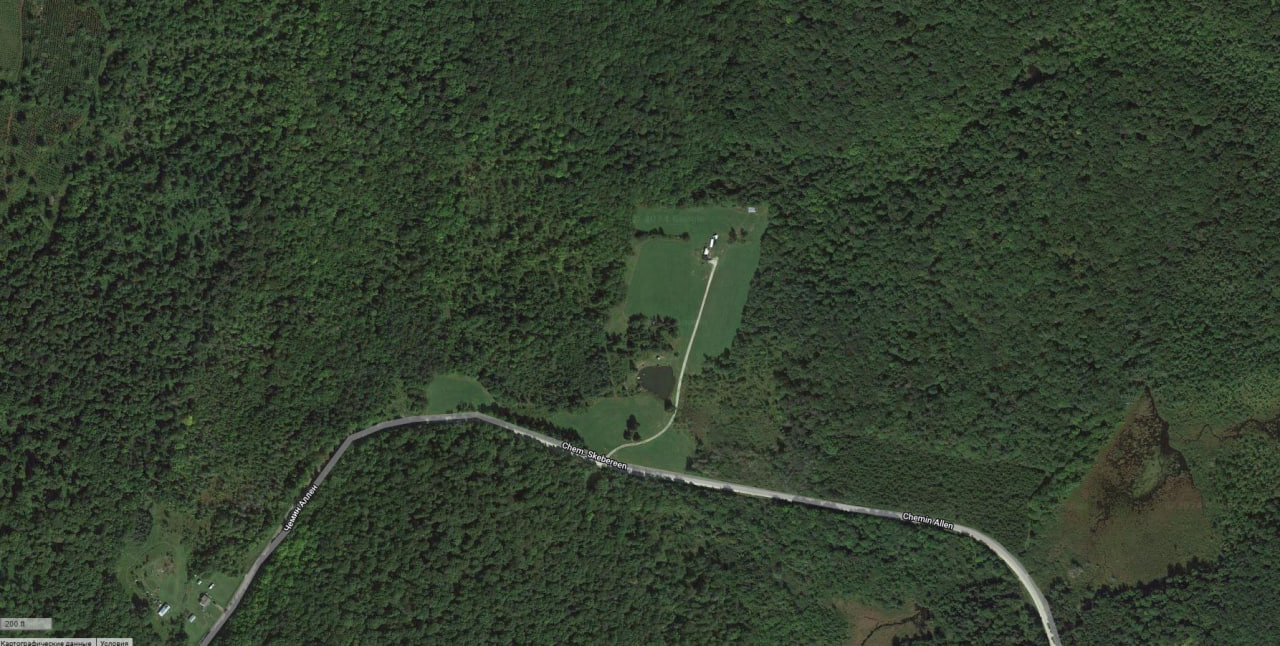Sown field: (634, 207, 768, 358), (626, 239, 705, 332), (551, 394, 669, 454), (615, 426, 695, 472), (426, 374, 493, 415), (516, 422, 521, 425)
